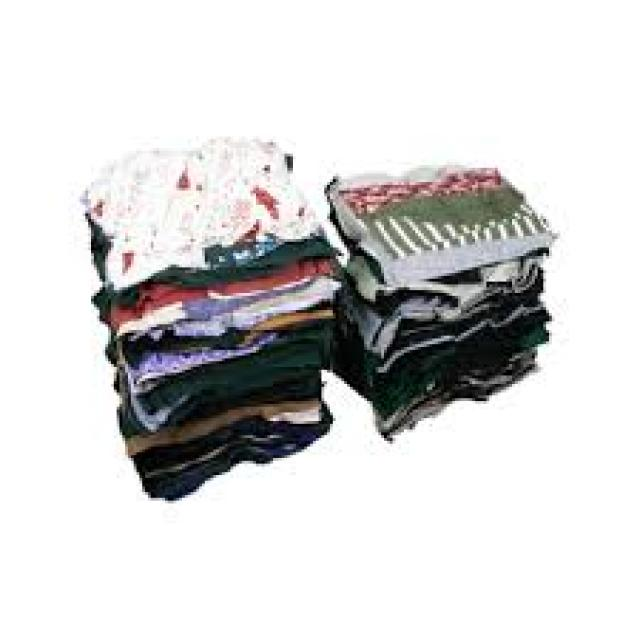Clothes -Biodegradable-: (75, 142, 551, 501)
